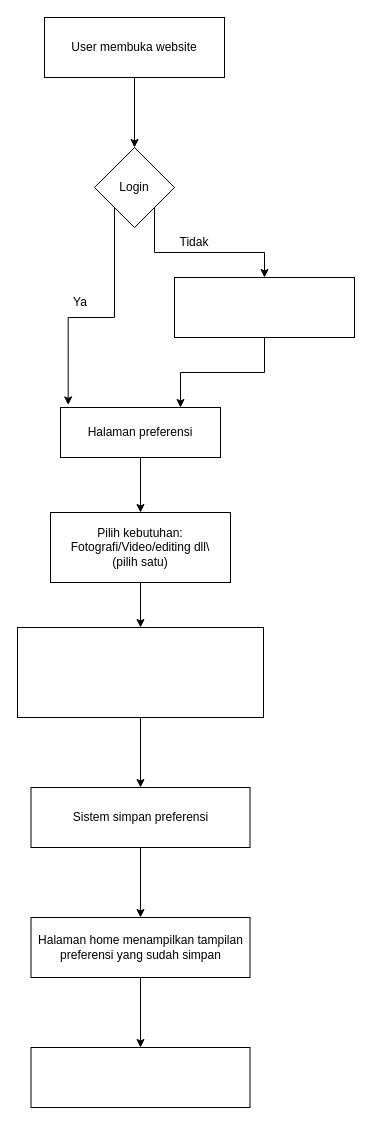
Image size: 372x1125. Some labels were removed from this diagram. The centre of each missing label's shape, as x and y in pixels:
Form regitser/login: point (264, 307)
Interaksi Lanjut :cari, pesan, review: point (140, 1077)
Pilih kebutuhan: A year book, Wedding, Company Profile, dll (pilih satu): point (140, 672)
